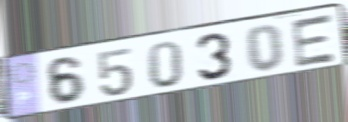0: (243, 22, 287, 75), (144, 40, 186, 89)
3: (194, 30, 236, 83)
5: (95, 45, 136, 97)
6: (43, 54, 89, 107)
E: (290, 11, 339, 69)
